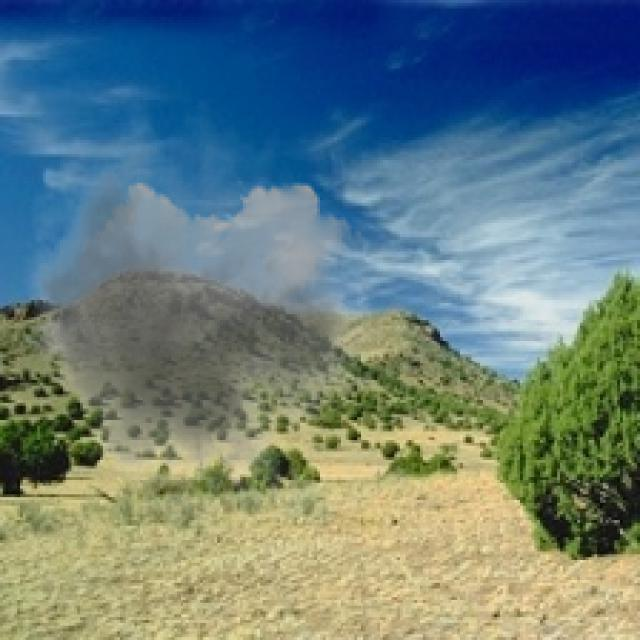Smoke: (12, 97, 374, 517)
